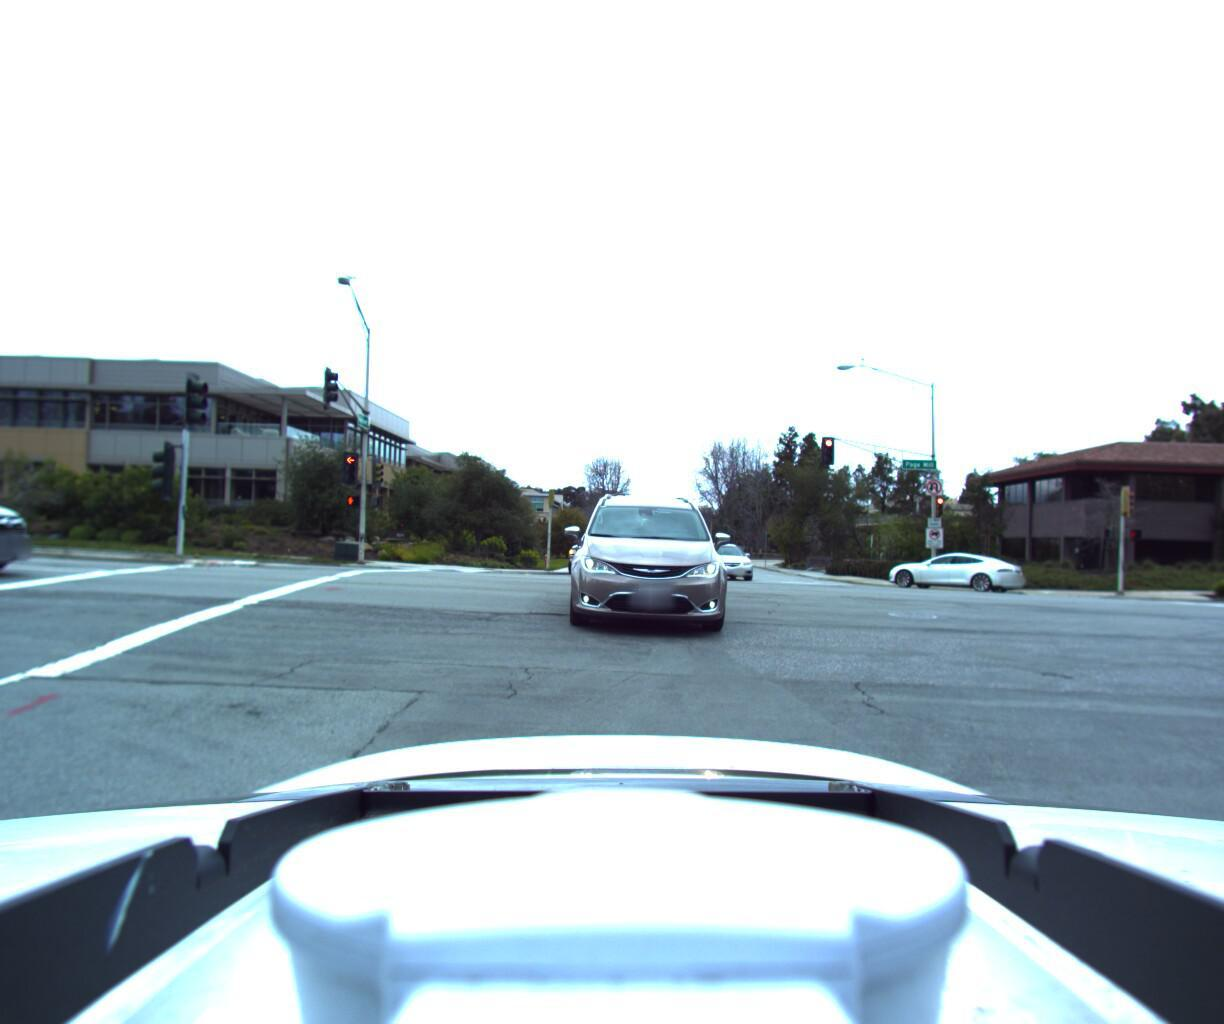car: (569, 485, 736, 636), (866, 546, 1015, 594), (0, 451, 48, 585), (559, 526, 654, 568), (687, 540, 764, 585)
